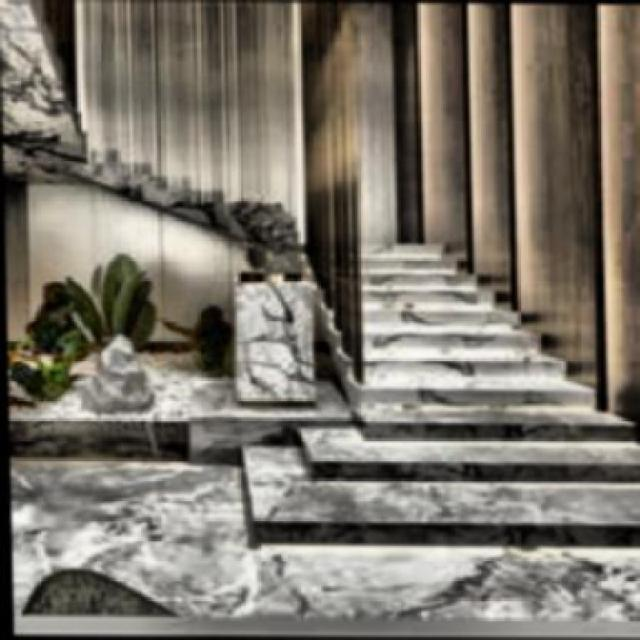stair: (309, 232, 628, 498)
